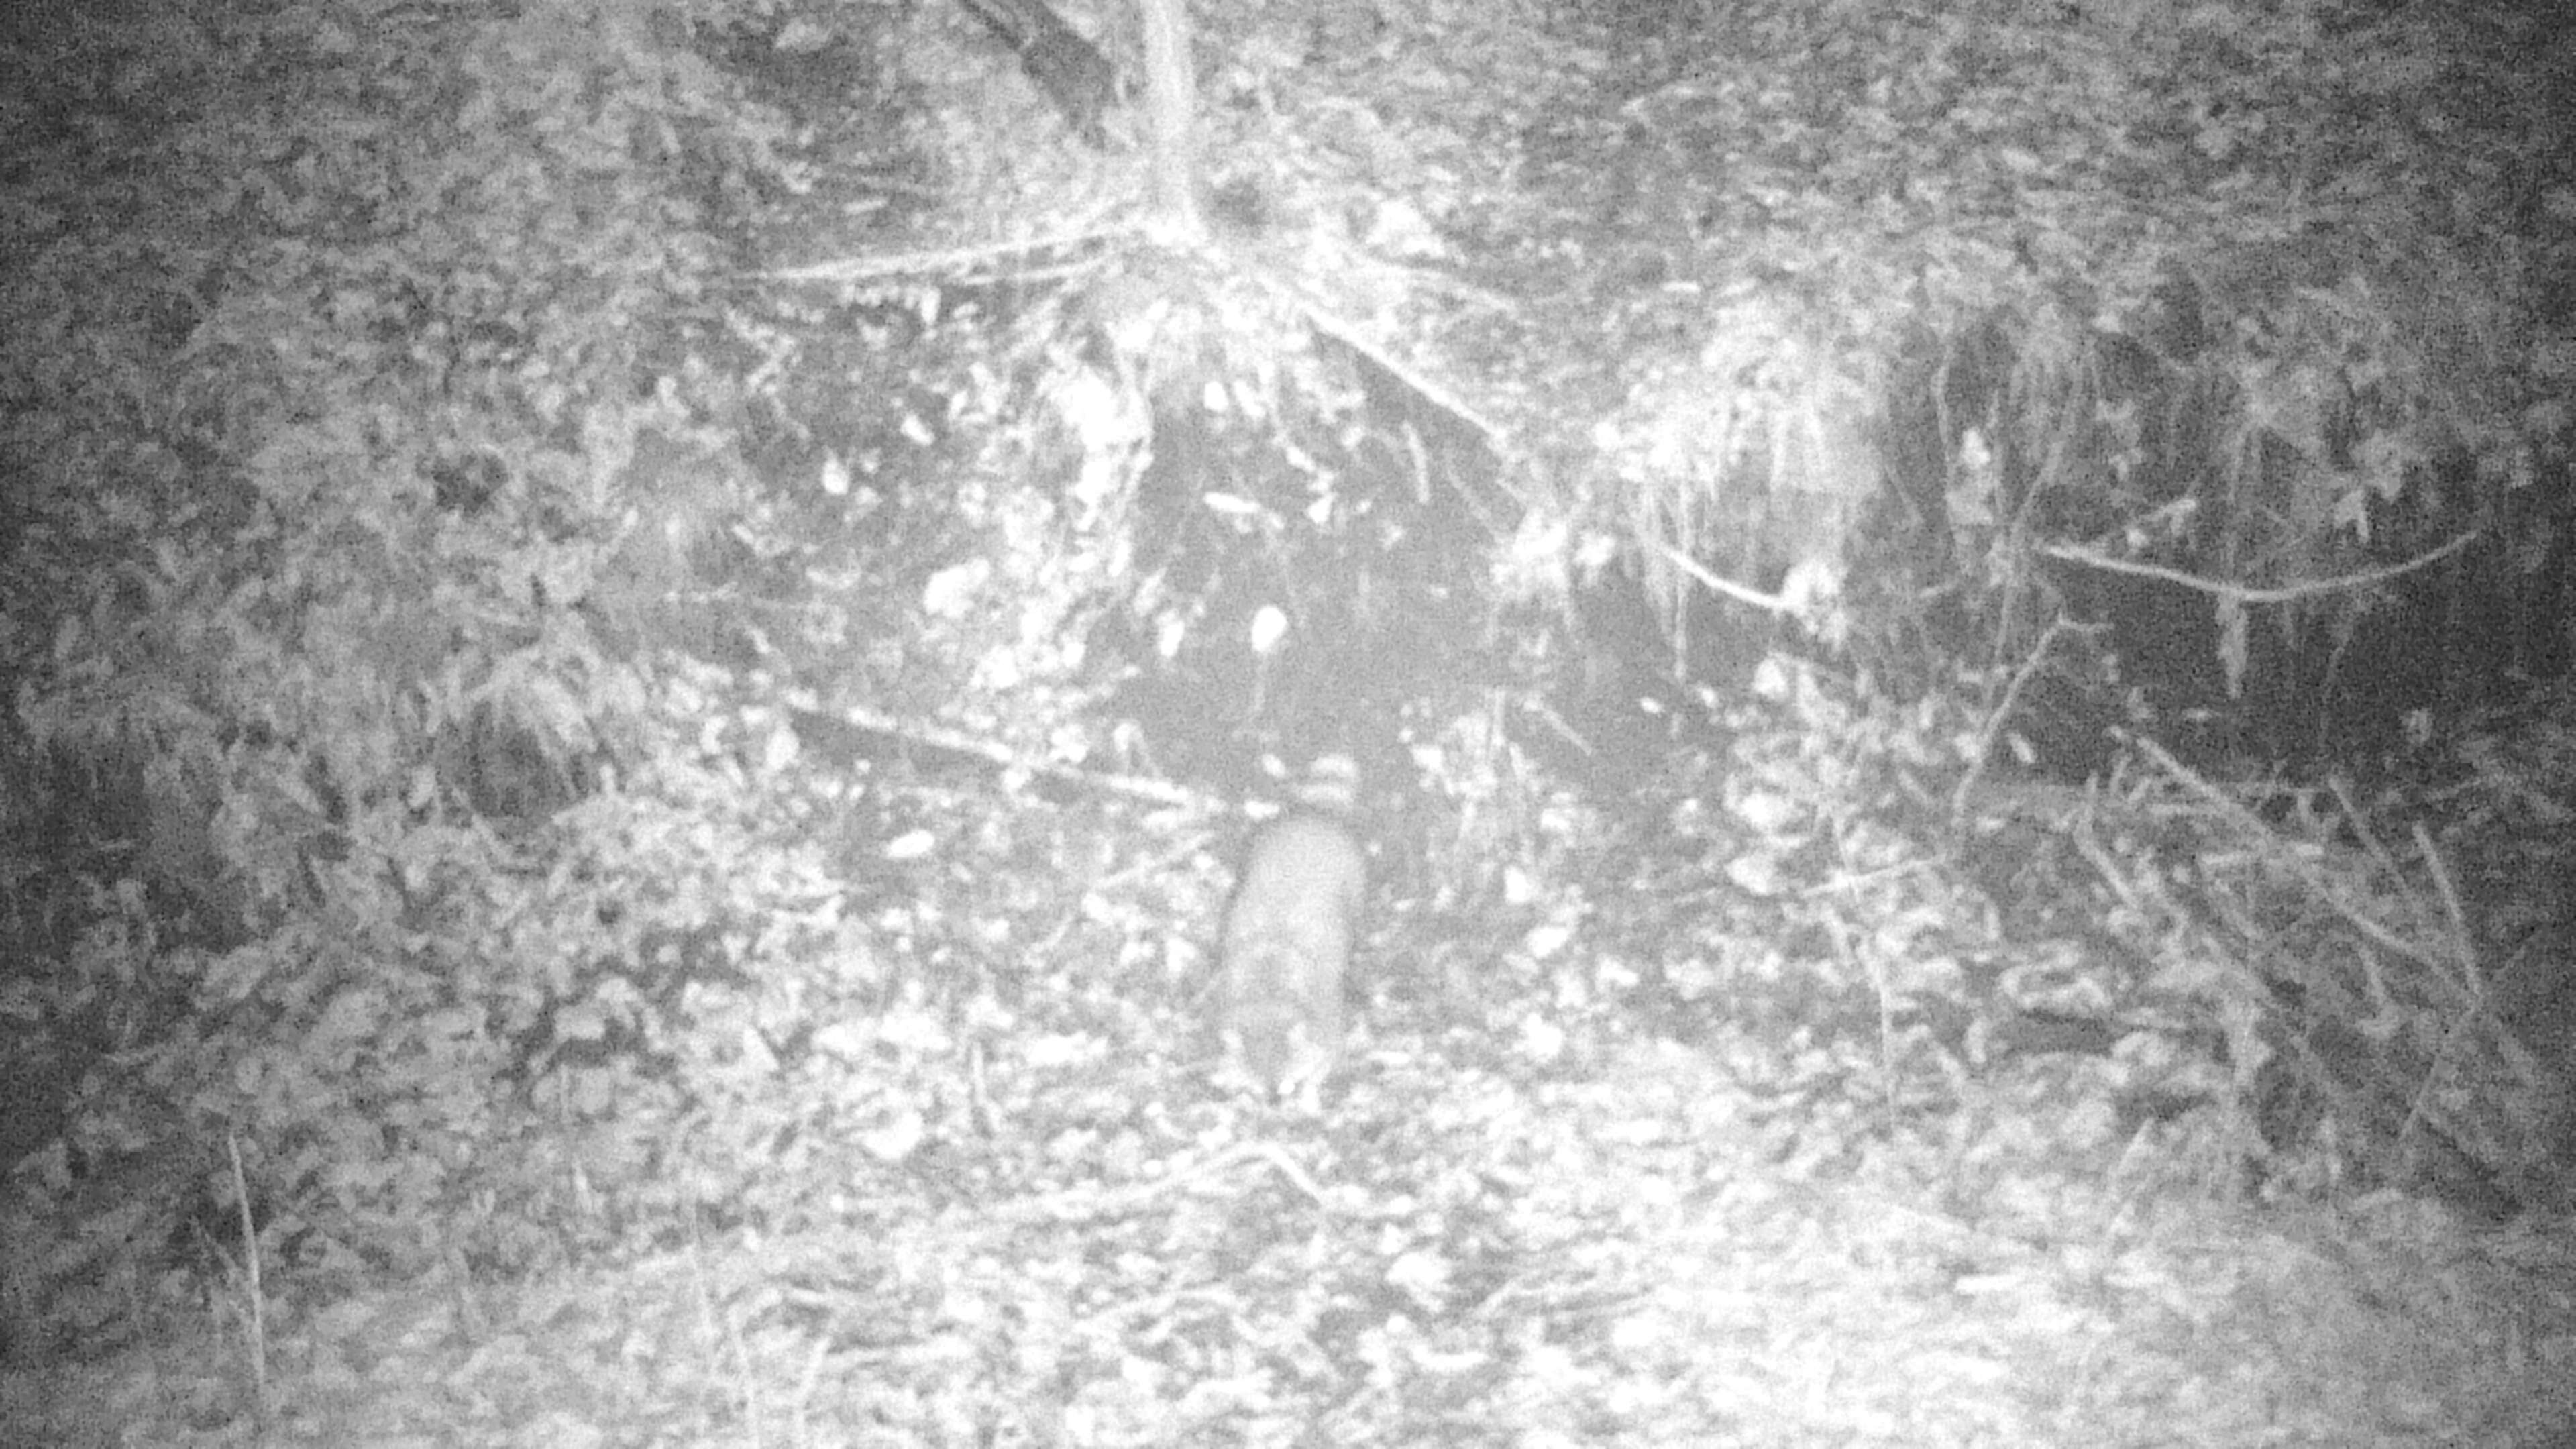Raccoon: (1212, 752, 1376, 1122)
